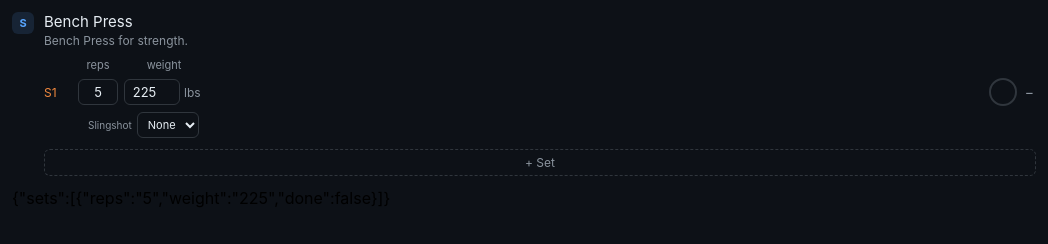
Test: an attached modifier is selected per set and survives completion
Select "Red" in the dropdown named "Slingshot for set 1" at (168, 125), box [137, 112, 199, 138]
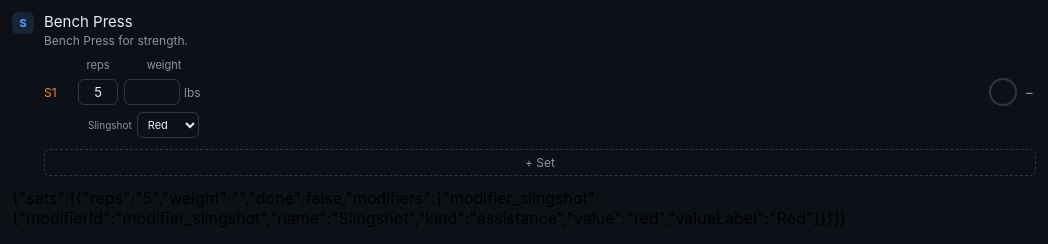
Check: the number field is not empty, box [124, 79, 180, 105]
Click the button titled "Set 1: tap to toggle done".
click(1003, 92)  # box [989, 78, 1017, 106]
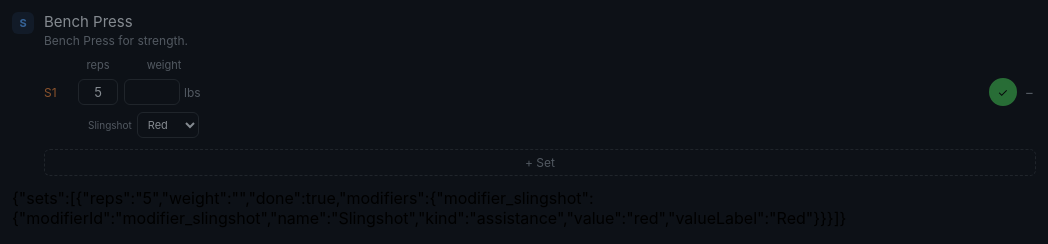
Check: the button titled "Set 1: tap to toggle done" reads "✓", box [989, 78, 1017, 106]
